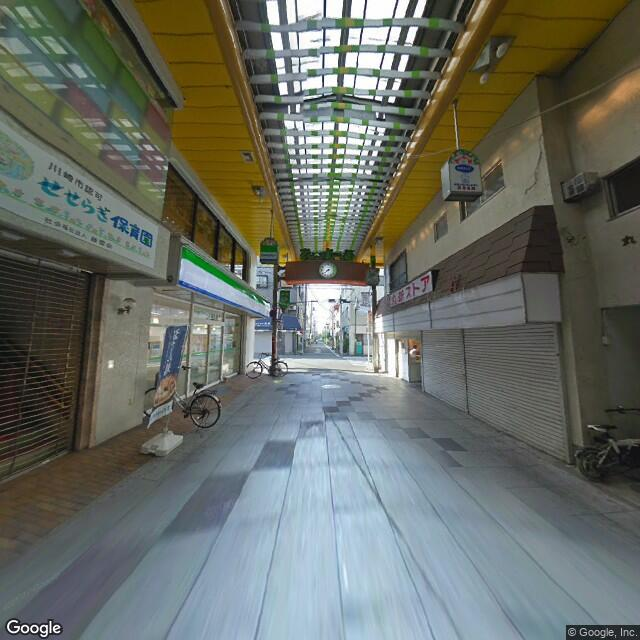family_mart: (178, 242, 274, 322)
